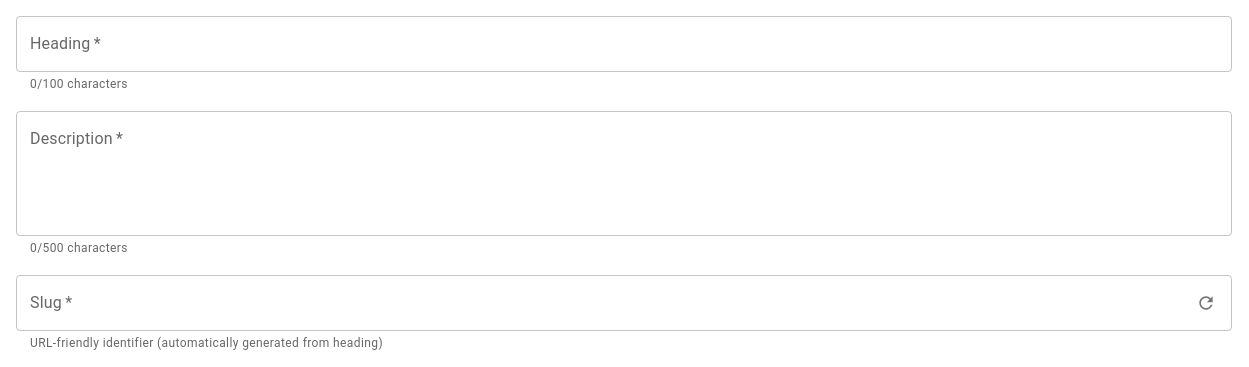
User Interactions › should update character count when typing in description field
The image size is (1249, 367).
Type in the description field
In the text box with placeholder "Enter article description": (624, 173) top-left (30, 127), bottom-right (1218, 219), type "Test description"
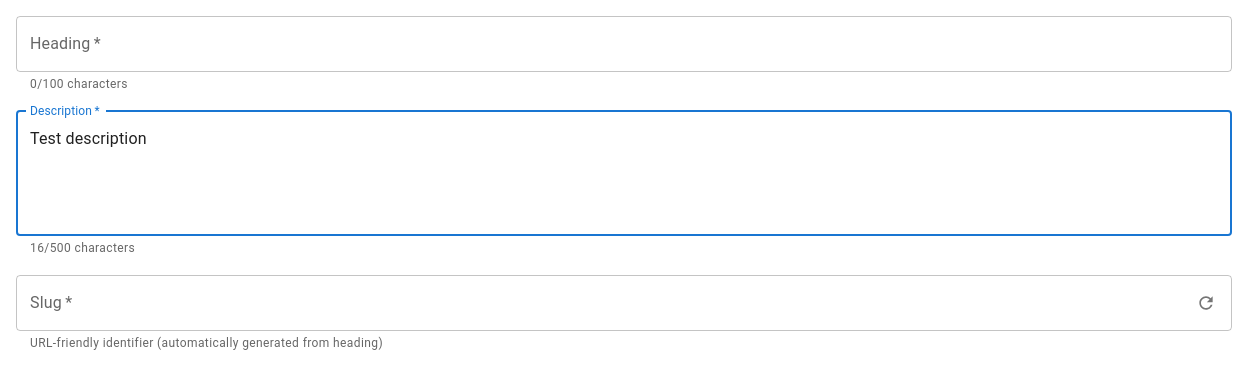
Result: the text "16/500 characters" is shown at top-left (30, 241), bottom-right (135, 255)
